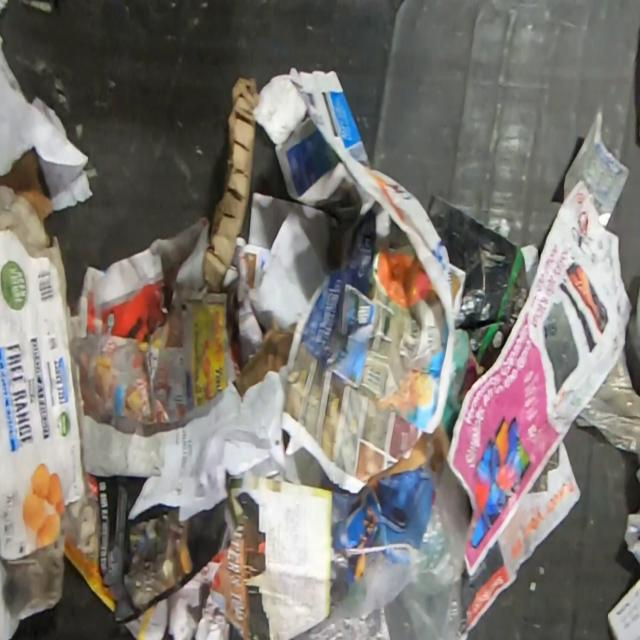cardboard: (0, 184, 86, 562), (252, 66, 370, 208), (201, 75, 258, 291)
soft_plastic: (292, 463, 473, 640), (574, 344, 640, 454)
